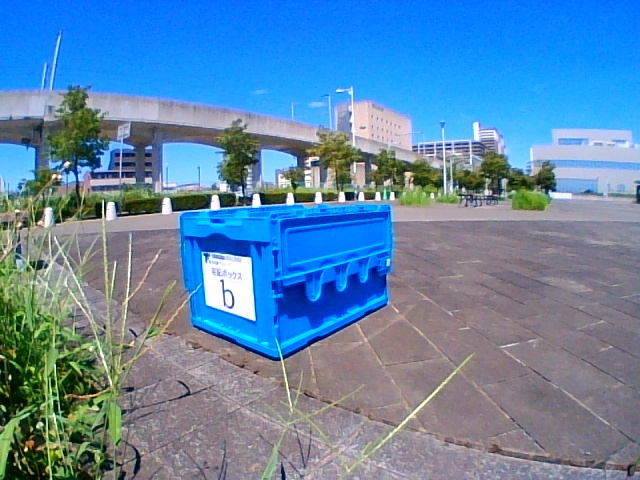blue_box: (190, 211, 355, 322)
tag_b: (213, 273, 253, 309)
